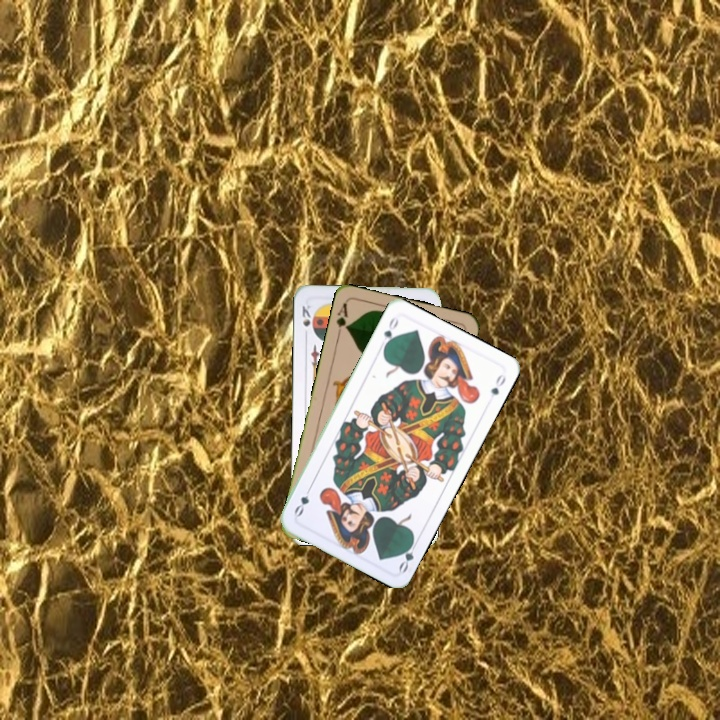GA: (332, 299, 351, 339)
GO: (395, 535, 421, 575), (379, 313, 401, 352)
SK: (298, 301, 316, 334)
